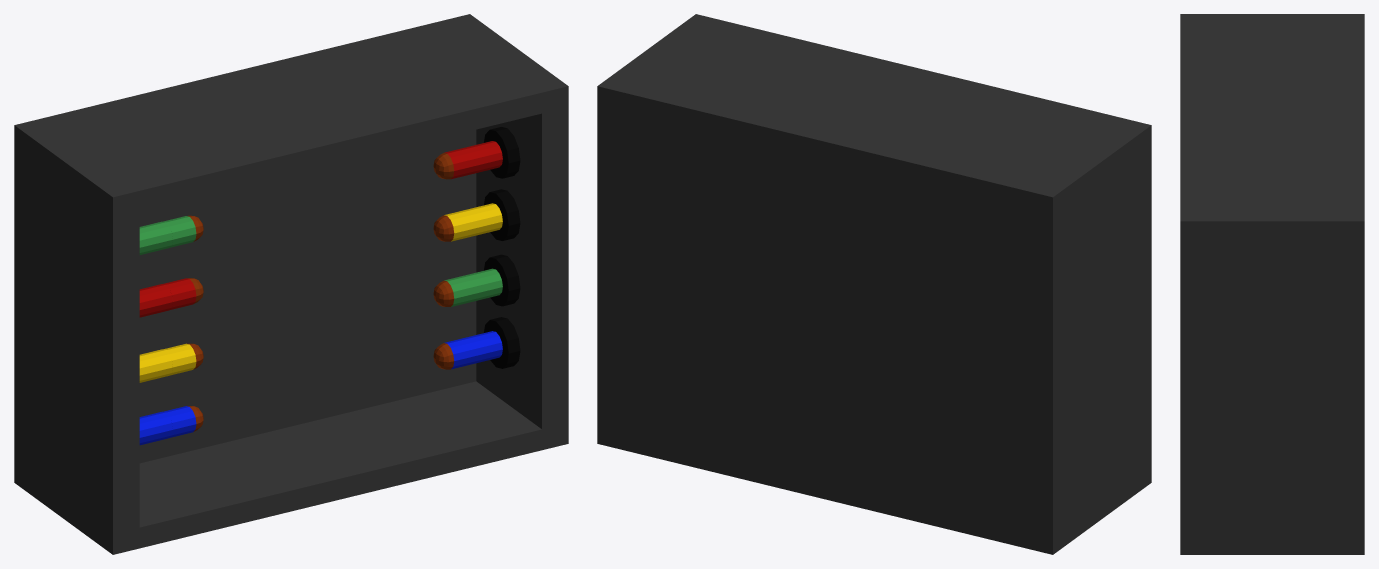
The model's file is Caja_cables.fbx.
The picture shows the model from 3 angles, left to right: view 1: azimuth 30°, elevation 25°; view 2: azimuth 150°, elevation 25°; view 3: azimuth 270°, elevation 25°; orthographic projection. The views are drawn at different scales.
Visible parts, largest first — view 1: Cube, cable_3, cable_1, cable_2, cable_4; view 2: Cube; view 3: Cube.
Boxes of the visible parts, left/top/right/bottom form: Cube: left=14, top=14, right=568, bottom=554; cable_3: left=164, top=343, right=196, bottom=375; cable_1: left=163, top=216, right=196, bottom=247; cable_2: left=163, top=278, right=196, bottom=309; cable_4: left=164, top=406, right=196, bottom=437; Cube: left=597, top=14, right=1151, bottom=554; Cube: left=1180, top=14, right=1364, bottom=554.
Bounding box in the file's own units: 800 × 600 × 300.
